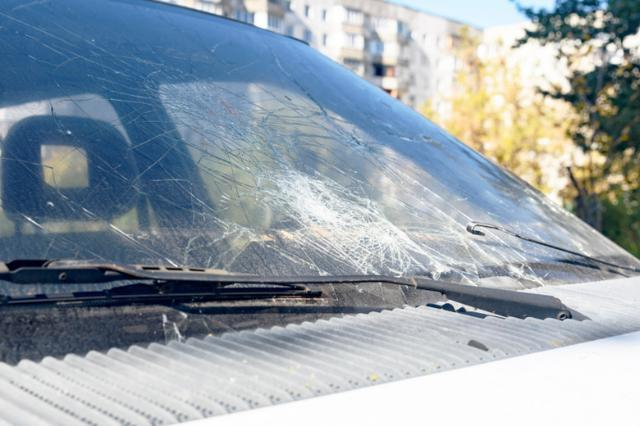Windshield: (0, 0, 640, 365)
